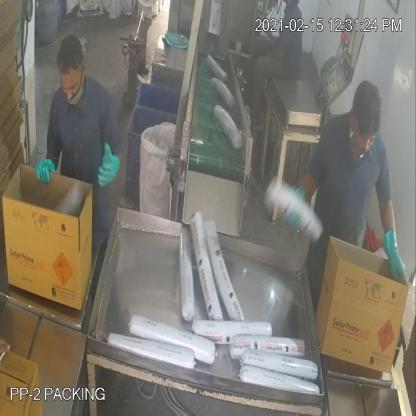glove: (376, 209, 414, 286), (85, 138, 128, 195), (28, 143, 63, 191)
